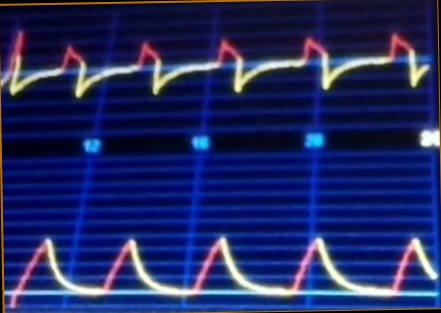Normal Flow: (1, 21, 429, 118)
Normal Volume: (5, 215, 437, 308)
